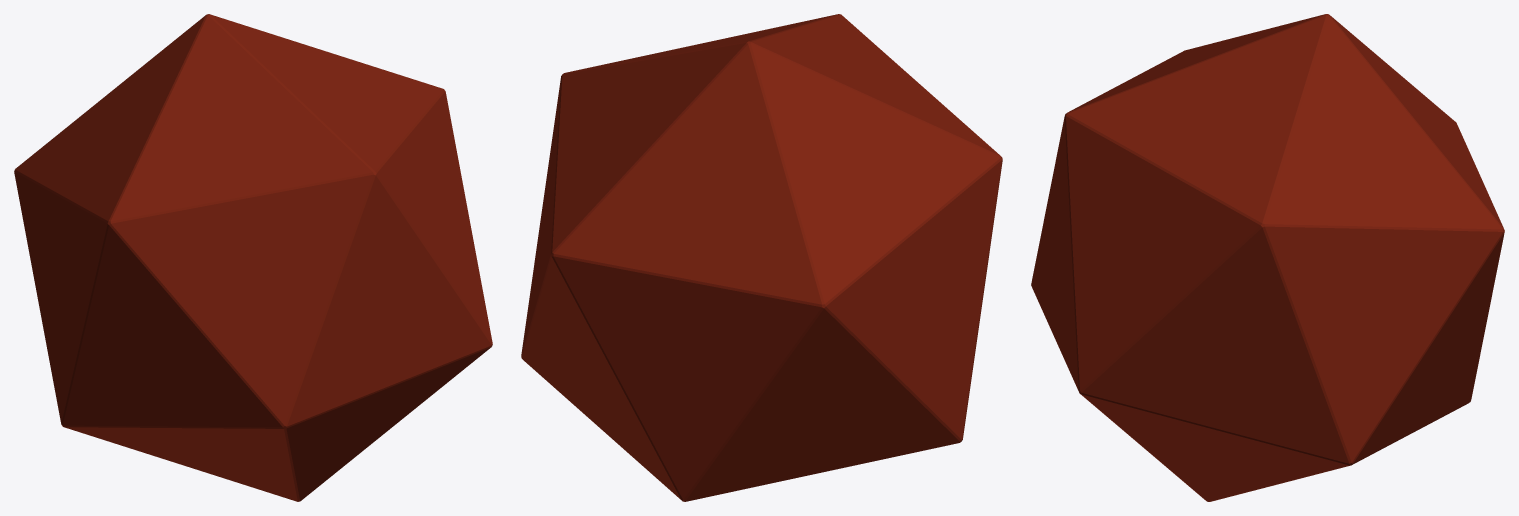
Rendered from vuong.glb.
The picture shows the model from 3 angles, left to right: view 1: azimuth 30°, elevation 25°; view 2: azimuth 150°, elevation 25°; view 3: azimuth 270°, elevation 25°; orthographic projection. The views are drawn at different scales.
Parts seen in each view (by area): view 1: Solid; view 2: Solid; view 3: Solid.
Part boxes in pixels (x1=…): Solid: x1=14, y1=14, x2=492, y2=501; Solid: x1=521, y1=14, x2=1002, y2=501; Solid: x1=1031, y1=14, x2=1504, y2=501.
Bounding box in the file's own units: 1.69 × 1.93 × 1.77.
